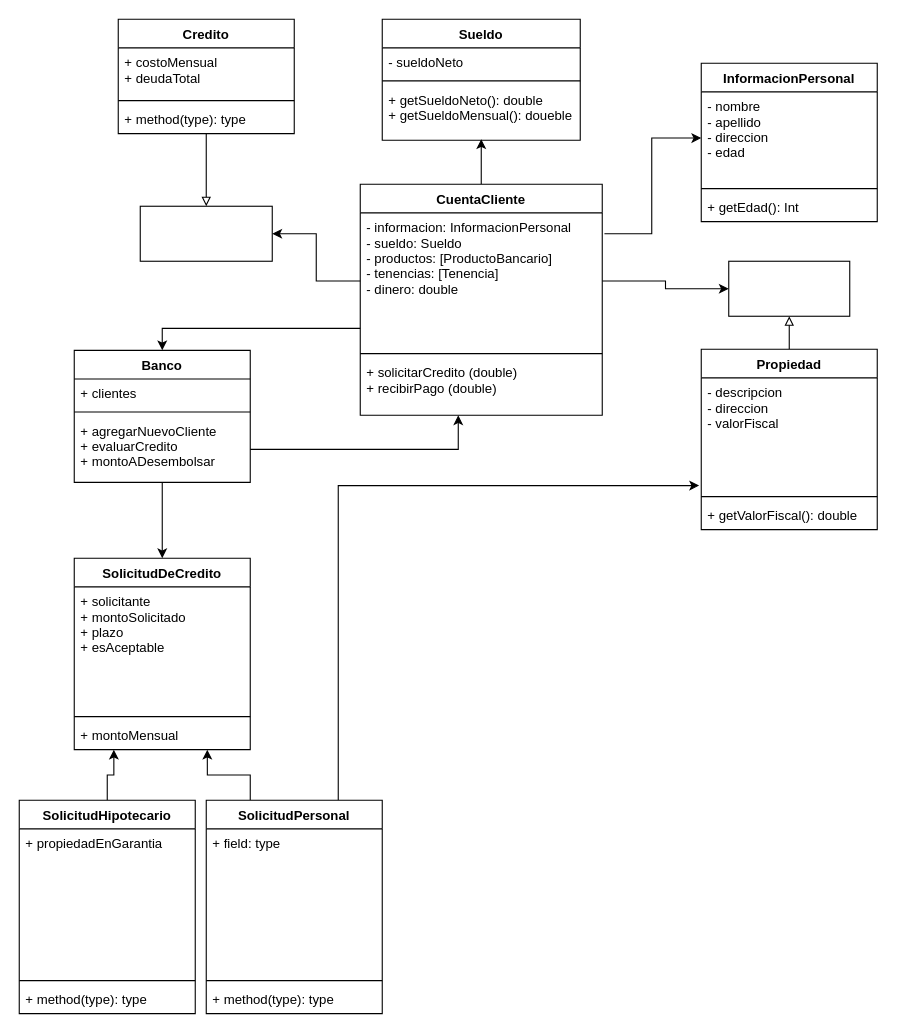
Image size: 897x1036. Some labels were removed from this diagram. The shapes that lost their labels are listed below. From the top down, each one's centre as x and y in pixels, then its label:
At pixel 205 233: "«interface» ProductoBancario".
At pixel 789 288: "«interface» Tenencia".
